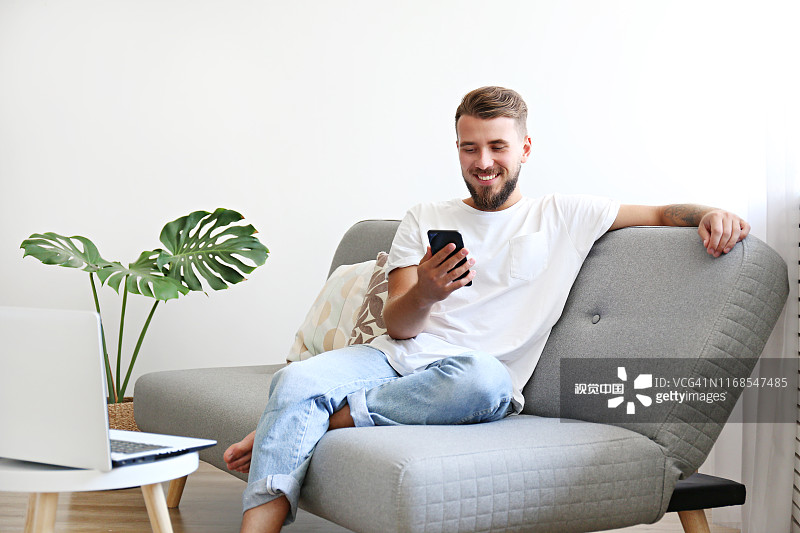no-phone: (687, 200, 762, 260)
reading: (413, 220, 482, 309)
